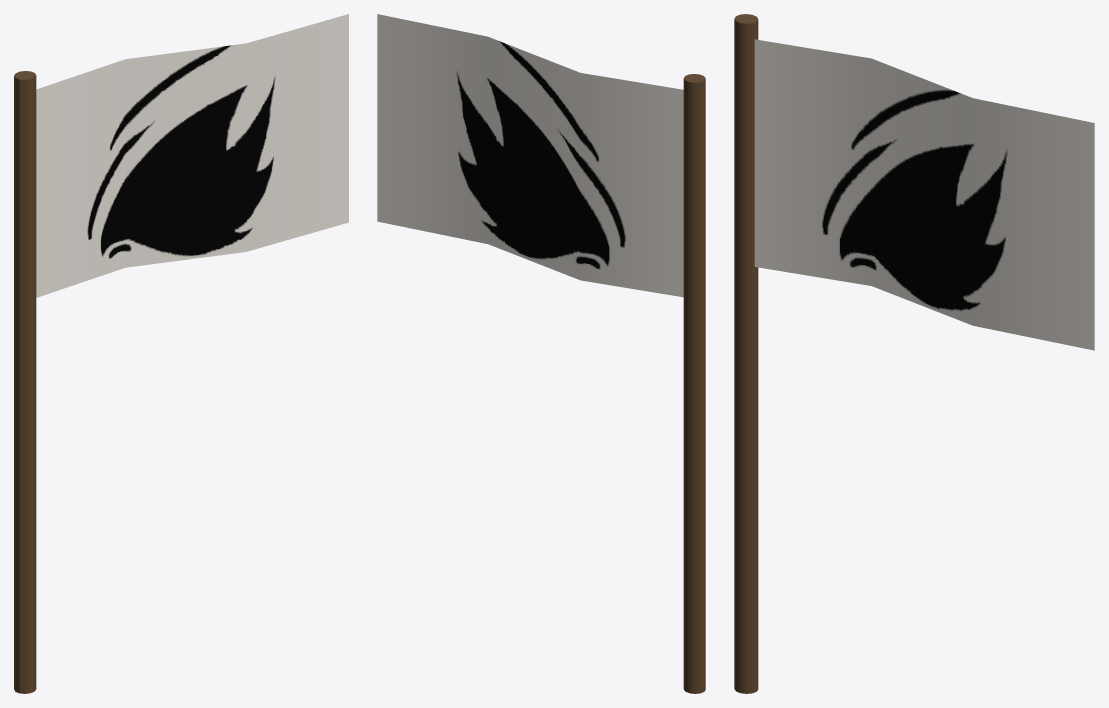
Rendered from Flag.fbx.
The picture shows the model from 3 angles, left to right: view 1: azimuth 30°, elevation 25°; view 2: azimuth 150°, elevation 25°; view 3: azimuth 330°, elevation 25°; orthographic projection. The views are drawn at different scales.
Parts seen in each view (by area): view 1: Mast_V01:pCylinder3; view 2: Mast_V01:pCylinder3; view 3: Mast_V01:pCylinder3.
Boxes of the visible parts, x1,y1,x2,y2 form: Mast_V01:pCylinder3: (14,14,348,693); Mast_V01:pCylinder3: (377,14,705,693); Mast_V01:pCylinder3: (734,14,1094,693).
Size of the model in its own units: 27.43 by 48.6 by 2.01.
1 material, 1 textured.
